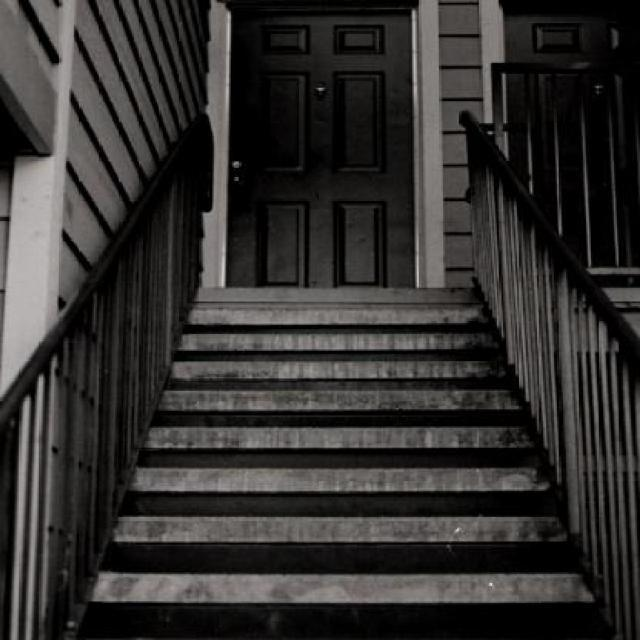stair: (2, 100, 640, 639)
